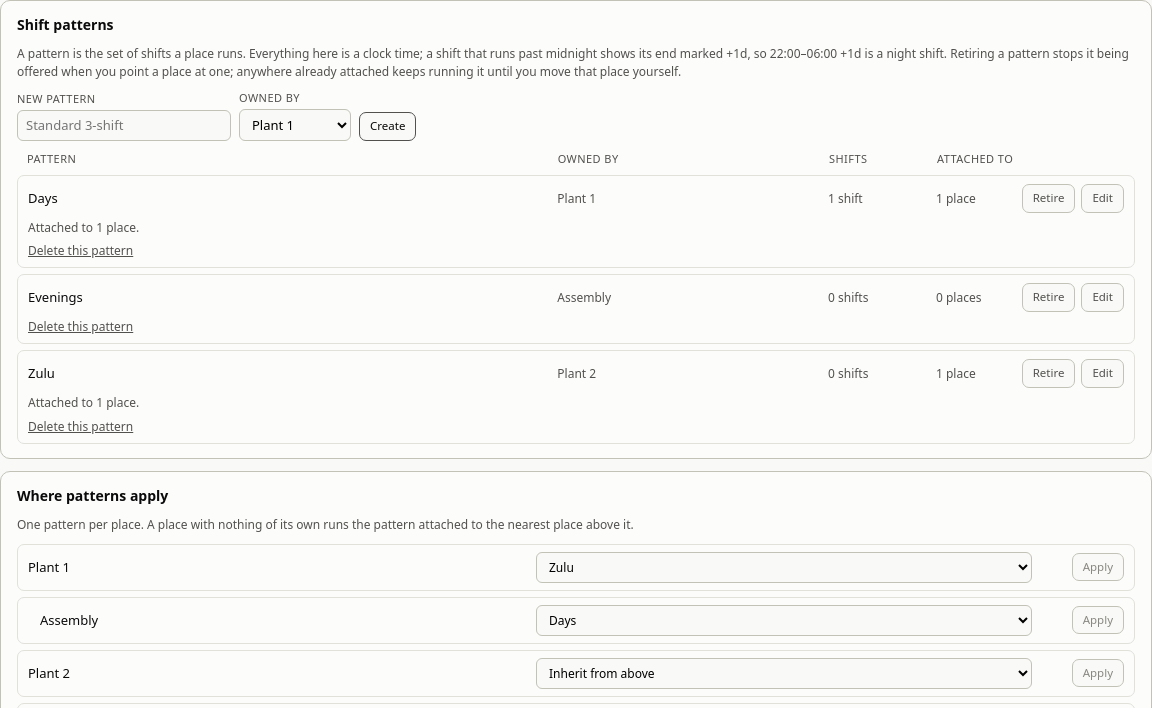
Test: ShiftsPanel — nothing is left holding an id the filter removed › S13b ⭐ Cancel closes EVERYTHING Edit opened — the editor and the shifts
Click the button "Edit" in the row of "Zulu" at [1103, 374], box [1081,360,1124,388]
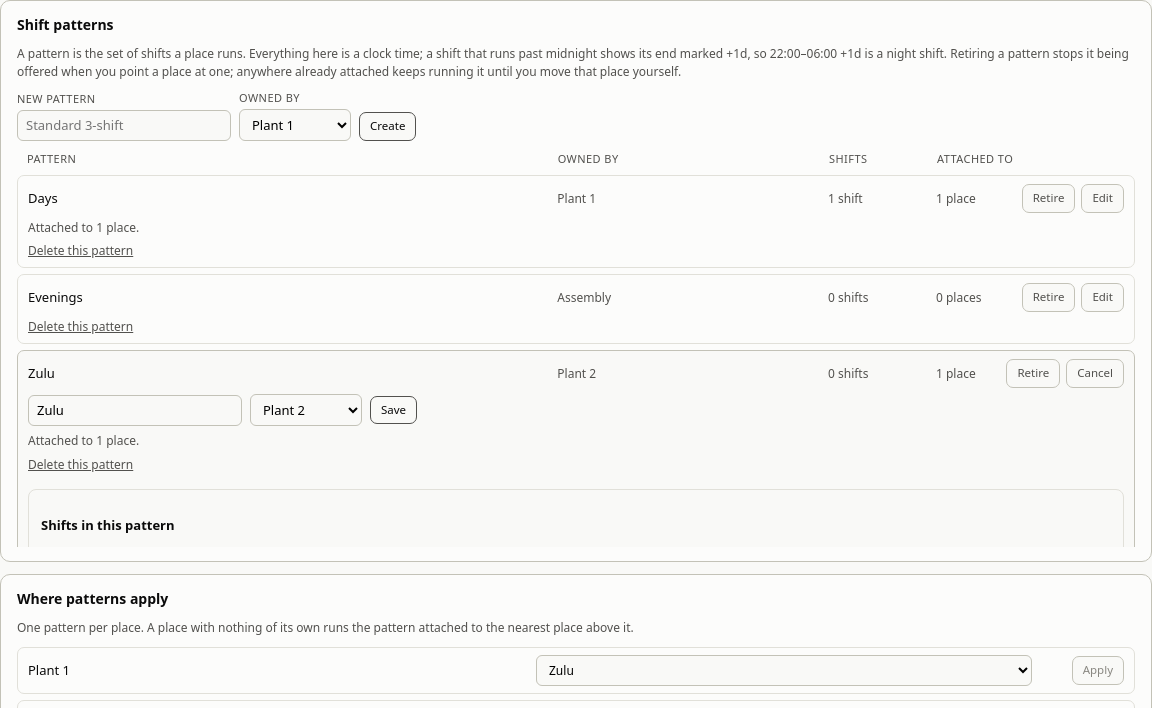
Check: the field named "Pattern name" is shown, box [28,395,242,426]
Check: the heading "Shifts in this pattern" is shown, box [41,516,175,534]
Click the button "Cancel" at [1095, 374], box [1066,360,1124,388]
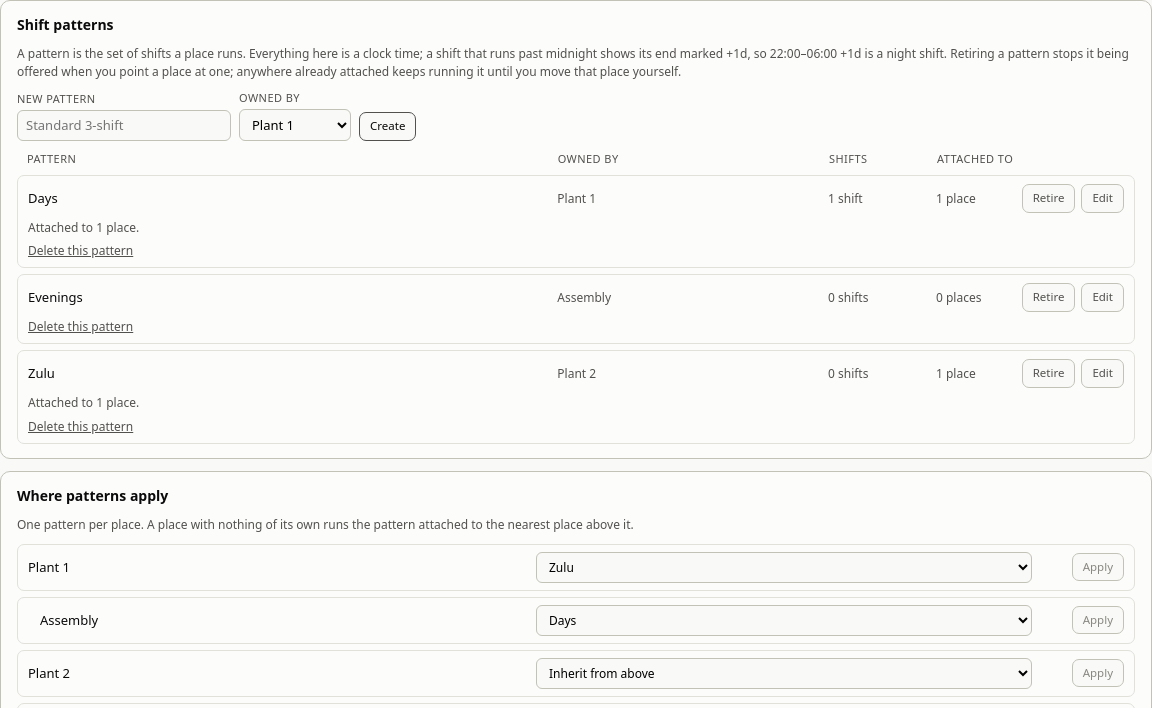
Check: the heading "Shifts in this pattern" is gone
